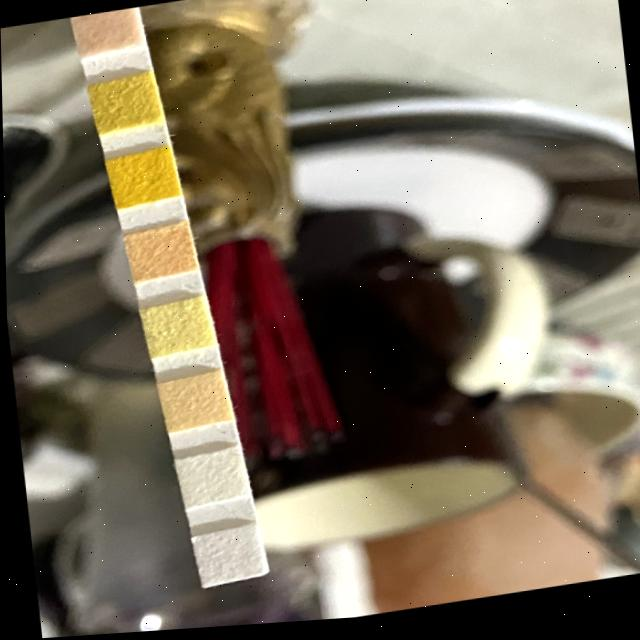Blood: (109, 152, 173, 203)
Ketone: (76, 8, 142, 53)
Leukocytes: (193, 530, 258, 584)
Nitrite: (176, 453, 239, 505)
Protein: (143, 301, 210, 354)
SpGravity: (92, 77, 157, 129)
Urobilinogen: (160, 377, 225, 429)
pH: (125, 227, 191, 280)
